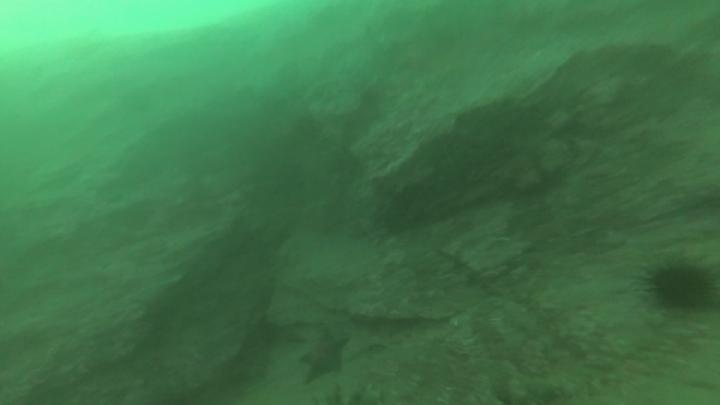echinus: (642, 255, 719, 317)
starfish: (295, 327, 352, 385)
